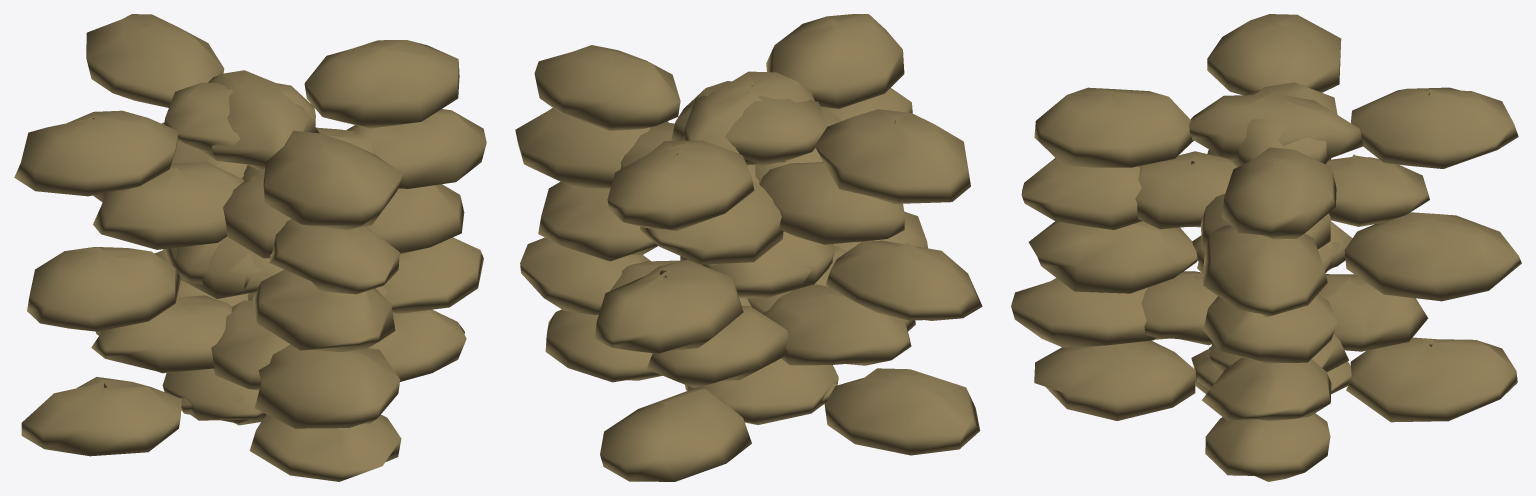
File: sandbag_05.obj
3 views of the same model, side by side, from view 1: azimuth 30°, elevation 25°; view 2: azimuth 150°, elevation 25°; view 3: azimuth 270°, elevation 25° (orthographic). The views are drawn at different scales.
Visible parts, largest first — view 1: sandbag_05; view 2: sandbag_05; view 3: sandbag_05.
Boxes of the visible parts, box(x1,y1,x2,y2) form: sandbag_05: box(14, 14, 486, 481); sandbag_05: box(515, 14, 982, 481); sandbag_05: box(1011, 14, 1521, 481).
Size of the model in its own units: 1.46 by 1 by 1.48.
